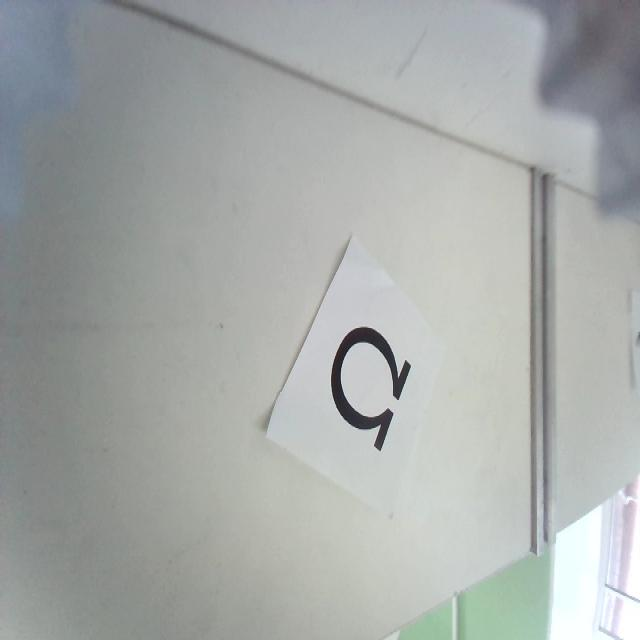OM: (331, 326, 411, 448)
